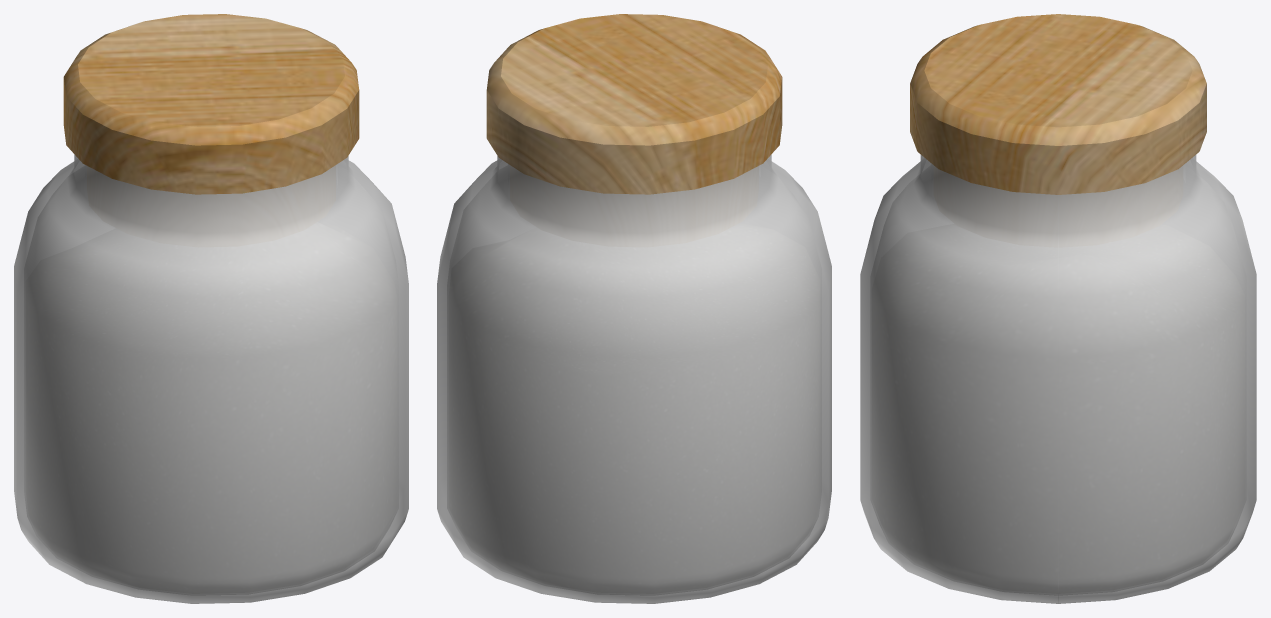
File: kitchen-glass-jar-low.obj
The picture shows the model from 3 angles, left to right: view 1: azimuth 30°, elevation 25°; view 2: azimuth 150°, elevation 25°; view 3: azimuth 270°, elevation 25°; orthographic projection.
Visible parts, largest first — view 1: GlassJar2.003, WoodenTop.003; view 2: GlassJar2.003, WoodenTop.003; view 3: GlassJar2.003, WoodenTop.003.
Part boxes in pixels (x1=…): GlassJar2.003: x1=14, y1=154, x2=408, y2=603; WoodenTop.003: x1=63, y1=14, x2=359, y2=194; GlassJar2.003: x1=437, y1=154, x2=831, y2=603; WoodenTop.003: x1=486, y1=14, x2=782, y2=194; GlassJar2.003: x1=860, y1=155, x2=1256, y2=603; WoodenTop.003: x1=910, y1=14, x2=1206, y2=194.
Bounding box in the file's own units: 9.89 × 12.79 × 9.89.
3 materials, 2 textured.
